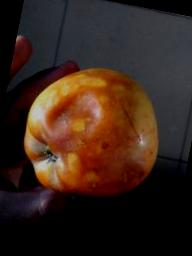Apple Rotten: (12, 54, 173, 210)
